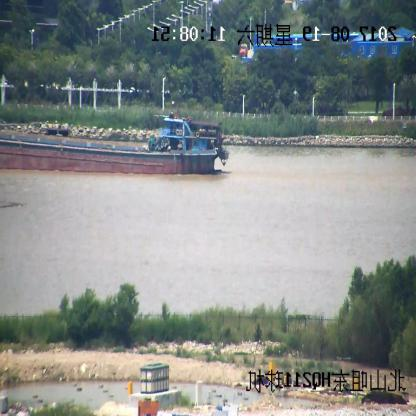Bulk Carrier: (0, 113, 228, 176)
